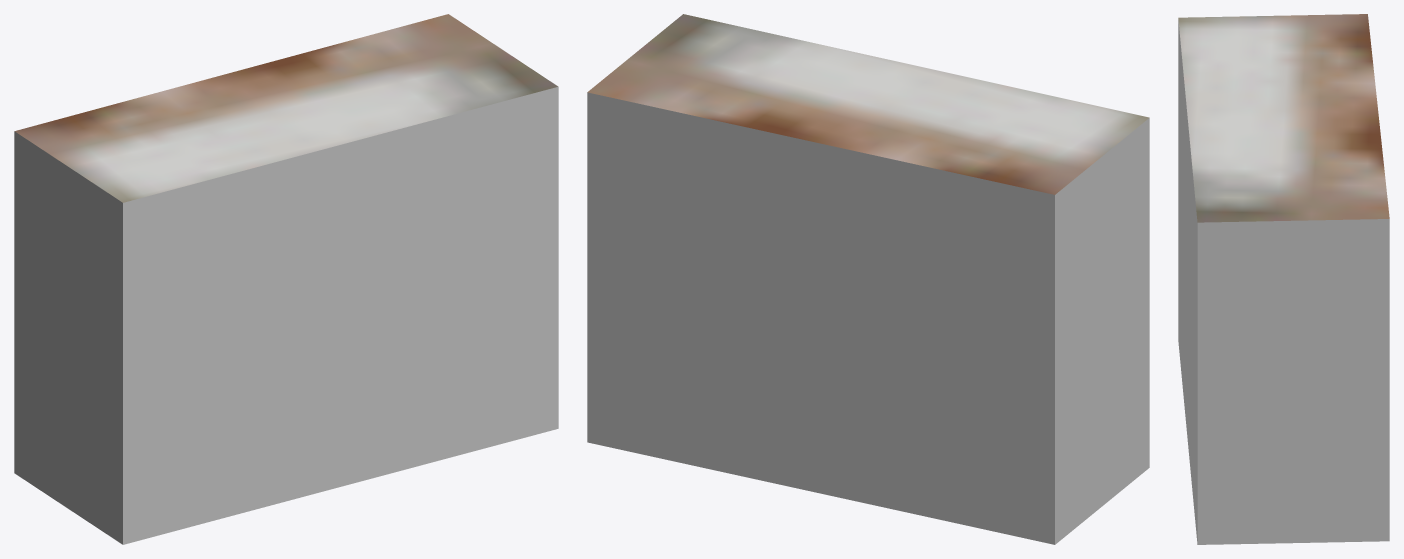
Rendered from DEBW_0010007THYP.gltf.
3 renders of one model, left to right at view 1: azimuth 30°, elevation 25°; view 2: azimuth 150°, elevation 25°; view 3: azimuth 270°, elevation 25°, orthographic. The views are drawn at different scales.
Parts seen in each view (by area): view 1: Z_UP; view 2: Z_UP; view 3: Z_UP.
Boxes of the visible parts, x1,y1,x2,y2 form: Z_UP: (14,14,558,544); Z_UP: (587,14,1149,544); Z_UP: (1178,14,1389,544).
Bounding box in the file's own units: 5.65 × 4.07 × 2.42.
Materials: 2 (1 with a texture image).
